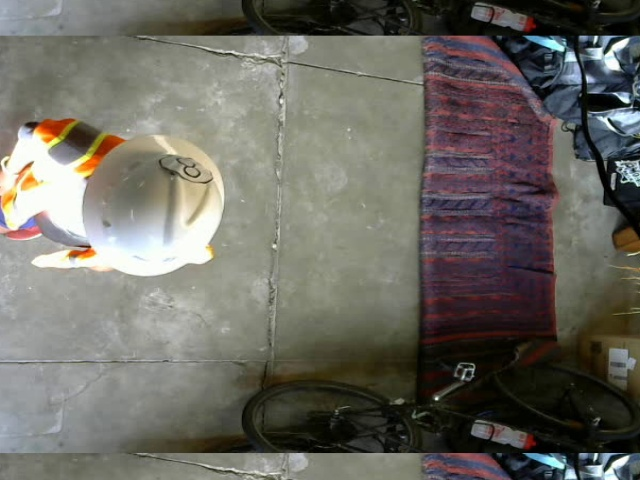eight: (158, 154, 210, 181)
